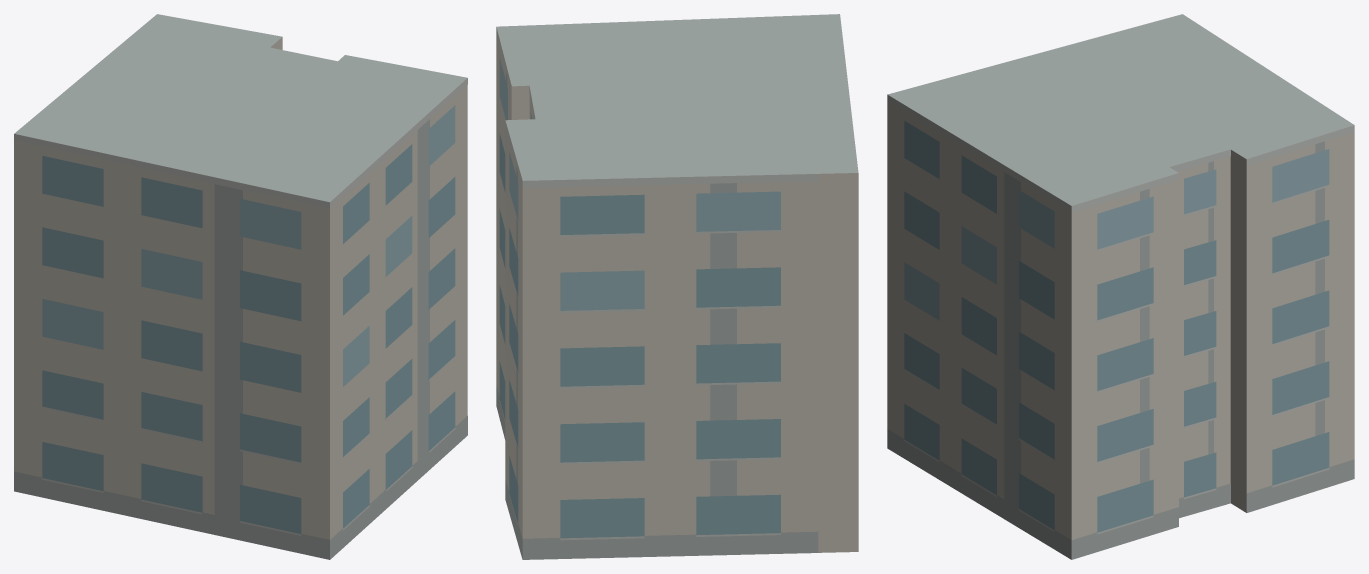
File: survey-upis-32679380.glb
The picture shows the model from 3 angles, left to right: view 1: azimuth 30°, elevation 25°; view 2: azimuth 150°, elevation 25°; view 3: azimuth 270°, elevation 25°; orthographic projection. The views are drawn at different scales.
Visible parts, largest first — view 1: survey-upis-32679380.tmp; view 2: survey-upis-32679380.tmp; view 3: survey-upis-32679380.tmp.
Part boxes in pixels (x1=…): survey-upis-32679380.tmp: x1=14, y1=14, x2=467, y2=559; survey-upis-32679380.tmp: x1=496, y1=14, x2=858, y2=559; survey-upis-32679380.tmp: x1=887, y1=14, x2=1354, y2=559.
Size of the model in its own units: 14.79 by 12.7 by 15.21.
